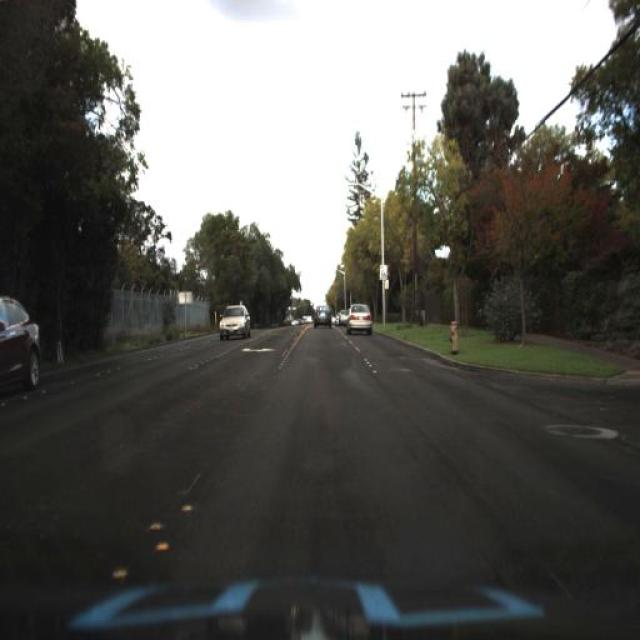car: (0, 294, 42, 403), (217, 303, 253, 346), (347, 300, 374, 338), (311, 302, 330, 333), (336, 310, 350, 329)
